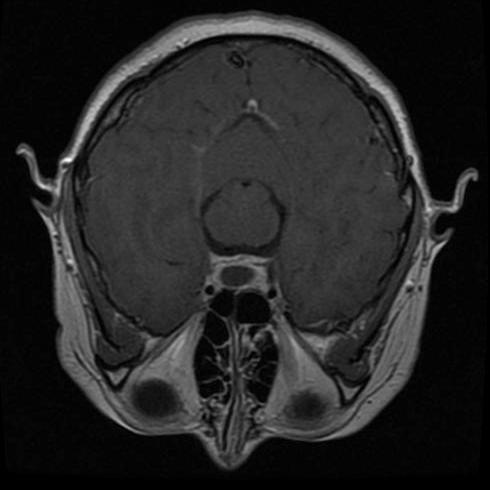Tumour-Pituitary: (197, 248, 283, 305)
